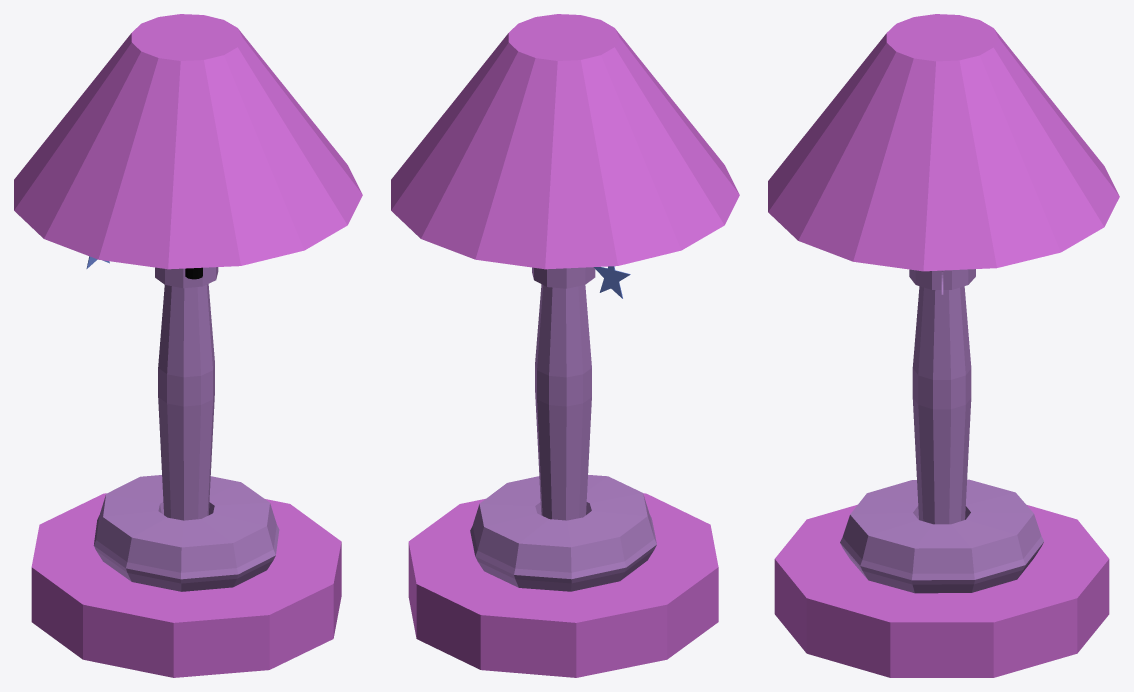
The model's file is abajurInfantil.fbx.
3 renders of one model, left to right at view 1: azimuth 30°, elevation 25°; view 2: azimuth 150°, elevation 25°; view 3: azimuth 270°, elevation 25°, orthographic.
Visible parts, largest first — view 1: Abajur; view 2: Abajur; view 3: Abajur.
Part boxes in pixels (bbox=[...]): Abajur: bbox=[14, 14, 362, 677]; Abajur: bbox=[391, 14, 739, 677]; Abajur: bbox=[768, 14, 1119, 677].
Bounding box in the file's own units: 469 × 843 × 466.
